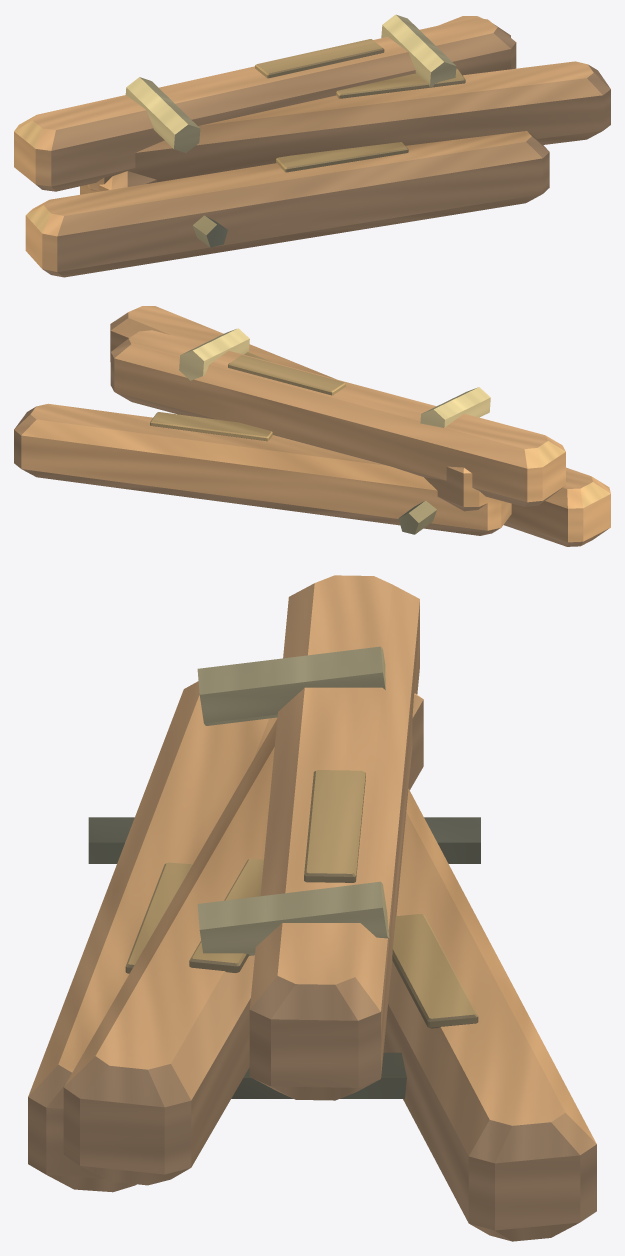
File: pier_salvage.glb
3 renders of one model, top to bottom at view 1: azimuth 30°, elevation 25°; view 2: azimuth 150°, elevation 25°; view 3: azimuth 270°, elevation 25°, orthographic. The views are drawn at different scales.
Parts seen in each view (by area): view 1: Fischersteg · Gebündeltes Treibholz; view 2: Fischersteg · Gebündeltes Treibholz; view 3: Fischersteg · Gebündeltes Treibholz.
Boxes of the visible parts, left/top/right/bottom form: Fischersteg · Gebündeltes Treibholz: left=14, top=14, right=610, bottom=277; Fischersteg · Gebündeltes Treibholz: left=14, top=306, right=610, bottom=546; Fischersteg · Gebündeltes Treibholz: left=28, top=575, right=596, bottom=1241.
Bounding box in the file's own units: 1.3 × 0.3117 × 0.6237.
2 materials, 2 textured.
